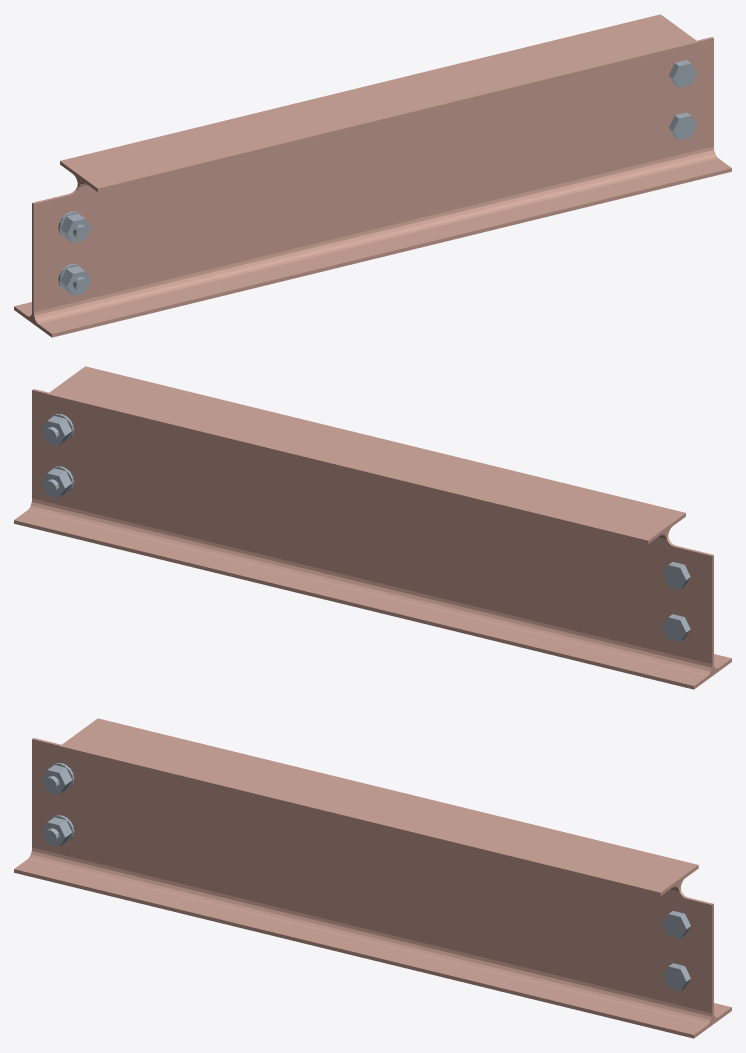
The picture shows the model from 3 angles, top to bottom: view 1: azimuth 30°, elevation 25°; view 2: azimuth 150°, elevation 25°; view 3: azimuth 330°, elevation 25°; orthographic projection.
Visible parts, largest first — view 1: product-21055436-961f-4f27-8576-1642ea280410-body, product-a38cce13-fd4e-4e3b-87f5-362d3e279a19-body, product-cba0fa70-8c15-43db-9b6d-5ecdd33eb06c-body, product-bb0c6098-f636-4d47-9649-e78bf987e32f-body, product-1caf873b-12db-42f7-862a-84270436d756-body; view 2: product-21055436-961f-4f27-8576-1642ea280410-body, product-bb0c6098-f636-4d47-9649-e78bf987e32f-body, product-1caf873b-12db-42f7-862a-84270436d756-body, product-a38cce13-fd4e-4e3b-87f5-362d3e279a19-body, product-cba0fa70-8c15-43db-9b6d-5ecdd33eb06c-body; view 3: product-21055436-961f-4f27-8576-1642ea280410-body, product-cba0fa70-8c15-43db-9b6d-5ecdd33eb06c-body, product-a38cce13-fd4e-4e3b-87f5-362d3e279a19-body, product-bb0c6098-f636-4d47-9649-e78bf987e32f-body, product-1caf873b-12db-42f7-862a-84270436d756-body.
Boxes of the visible parts, <box> form: product-21055436-961f-4f27-8576-1642ea280410-body: <box>14,14,731,337</box>; product-a38cce13-fd4e-4e3b-87f5-362d3e279a19-body: <box>58,211,91,243</box>; product-cba0fa70-8c15-43db-9b6d-5ecdd33eb06c-body: <box>58,264,91,295</box>; product-bb0c6098-f636-4d47-9649-e78bf987e32f-body: <box>668,112,696,140</box>; product-1caf873b-12db-42f7-862a-84270436d756-body: <box>668,60,696,87</box>; product-21055436-961f-4f27-8576-1642ea280410-body: <box>14,366,731,689</box>; product-bb0c6098-f636-4d47-9649-e78bf987e32f-body: <box>41,466,73,497</box>; product-1caf873b-12db-42f7-862a-84270436d756-body: <box>41,413,73,445</box>; product-a38cce13-fd4e-4e3b-87f5-362d3e279a19-body: <box>662,562,690,589</box>; product-cba0fa70-8c15-43db-9b6d-5ecdd33eb06c-body: <box>662,614,690,641</box>; product-21055436-961f-4f27-8576-1642ea280410-body: <box>14,718,731,1038</box>; product-cba0fa70-8c15-43db-9b6d-5ecdd33eb06c-body: <box>41,815,74,846</box>; product-a38cce13-fd4e-4e3b-87f5-362d3e279a19-body: <box>41,763,74,794</box>; product-bb0c6098-f636-4d47-9649-e78bf987e32f-body: <box>662,963,690,990</box>; product-1caf873b-12db-42f7-862a-84270436d756-body: <box>662,911,690,938</box>.
Bounding box in the file's own units: 1.04 × 0.2004 × 0.1001.
